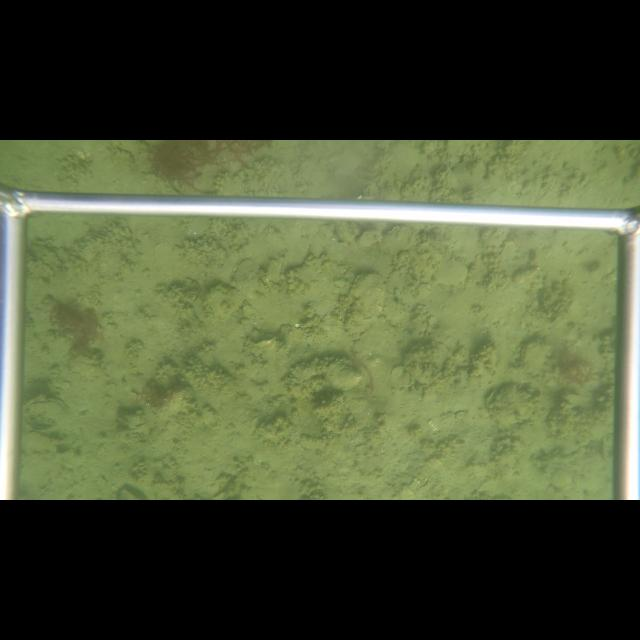Oyster-Closed: (343, 272, 386, 335), (201, 284, 247, 317), (378, 224, 424, 256), (518, 340, 553, 377), (324, 362, 364, 392)
